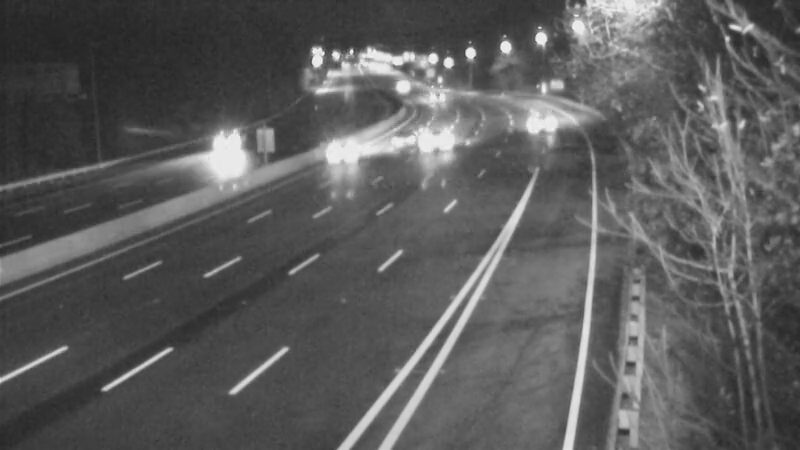vehicle: (303, 111, 383, 191), (187, 110, 267, 190), (371, 58, 421, 108), (409, 66, 459, 116), (522, 98, 572, 148), (407, 115, 457, 165), (379, 117, 429, 167)
